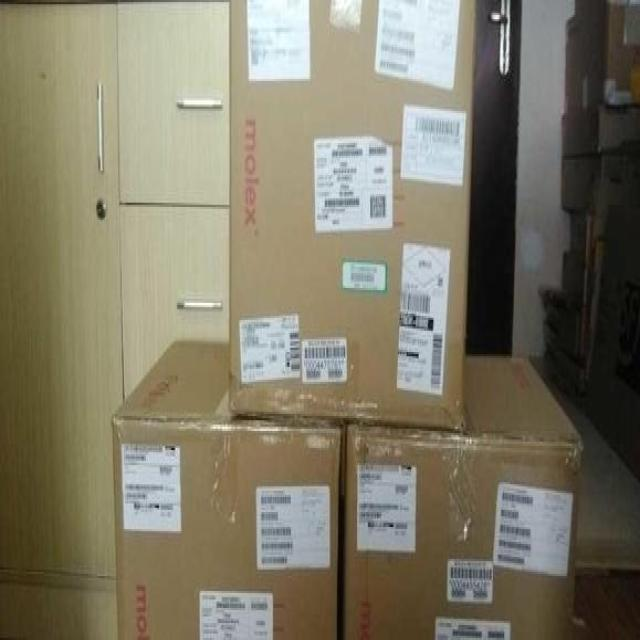box: (227, 0, 477, 430), (112, 336, 341, 638), (343, 354, 583, 638)
